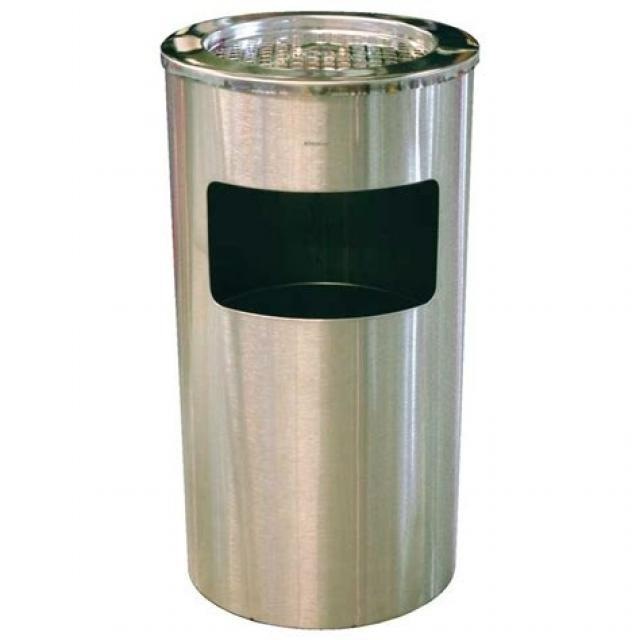garbage container: (136, 0, 490, 632)
